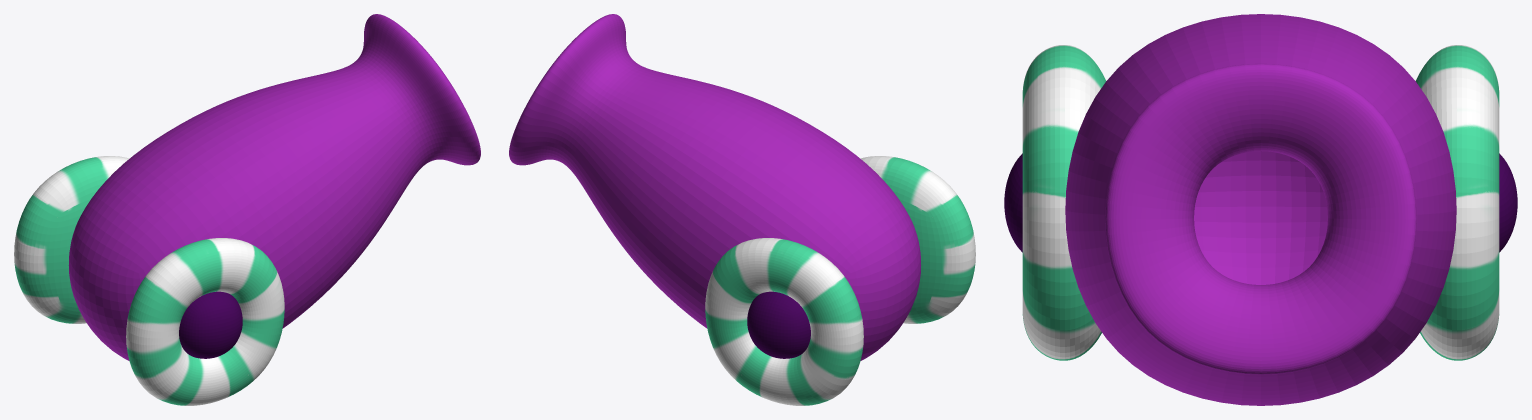
The model's file is Cannon.fbx.
3 renders of one model, left to right at view 1: azimuth 30°, elevation 25°; view 2: azimuth 150°, elevation 25°; view 3: azimuth 270°, elevation 25°, orthographic. The views are drawn at different scales.
Parts seen in each view (by area): view 1: Cube, 큐브, 큐브.001; view 2: Cube, 큐브, 큐브.001; view 3: Cube, 큐브, 큐브.001.
Part boxes in pixels (bbox=[...]): Cube: bbox=[68, 14, 480, 360]; 큐브: bbox=[14, 156, 284, 405]; 큐브.001: bbox=[179, 291, 242, 358]; Cube: bbox=[509, 14, 921, 360]; 큐브: bbox=[705, 156, 975, 405]; 큐브.001: bbox=[747, 291, 810, 358]; Cube: bbox=[1065, 14, 1456, 405]; 큐브: bbox=[1022, 45, 1499, 360]; 큐브.001: bbox=[1004, 153, 1517, 252].
Bounding box in the file's own units: 557 × 394 × 366.
